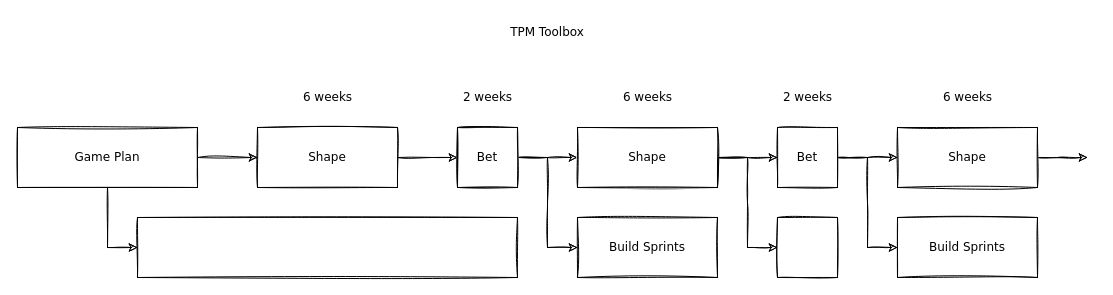
Image size: 1113x295. Some labels were removed from this diagram. The shapes that lost their labels are listed below. From the top down, each one's centre as x and y in pixels, then its label:
At point (327, 247): "Spikes".
At point (807, 247): "Refresh".
